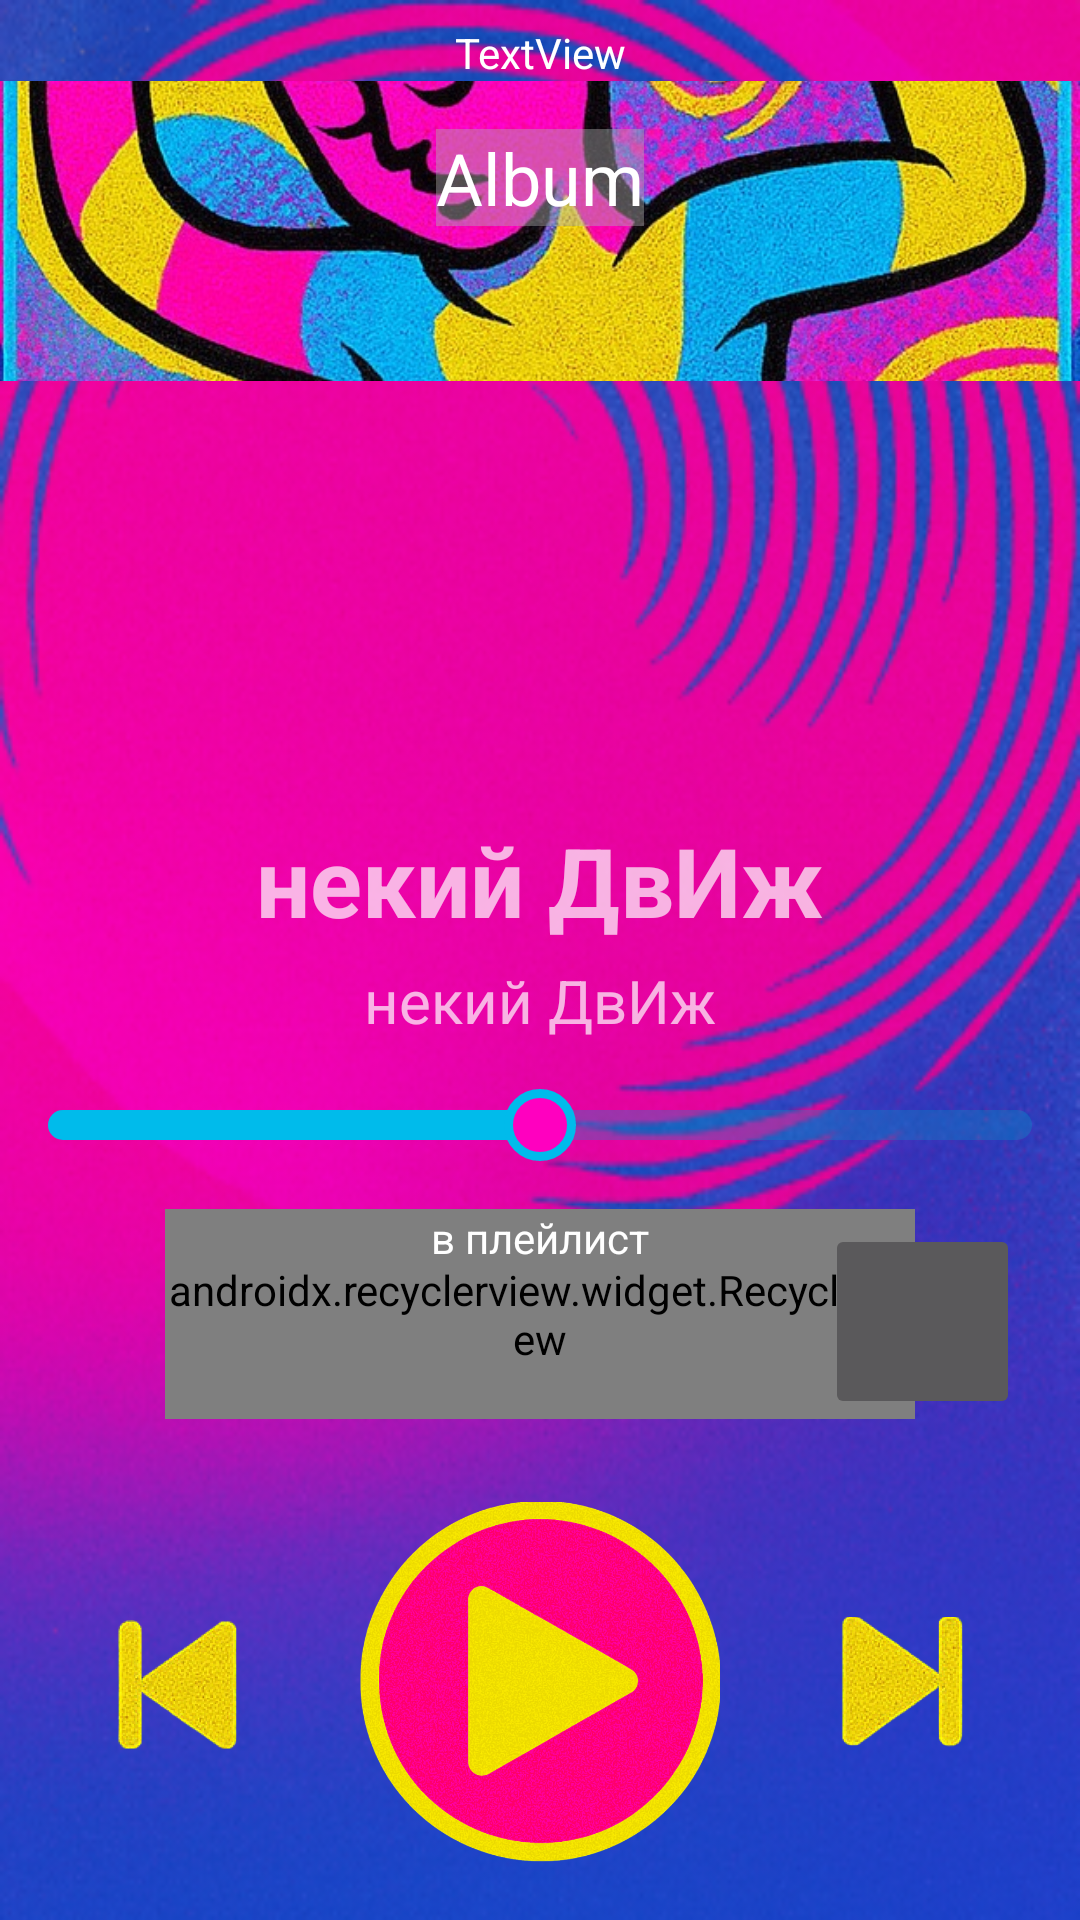

Point at icon controls on the screen. Image size 1080x1920, points as point (x, y).
next: point (902, 1682)
